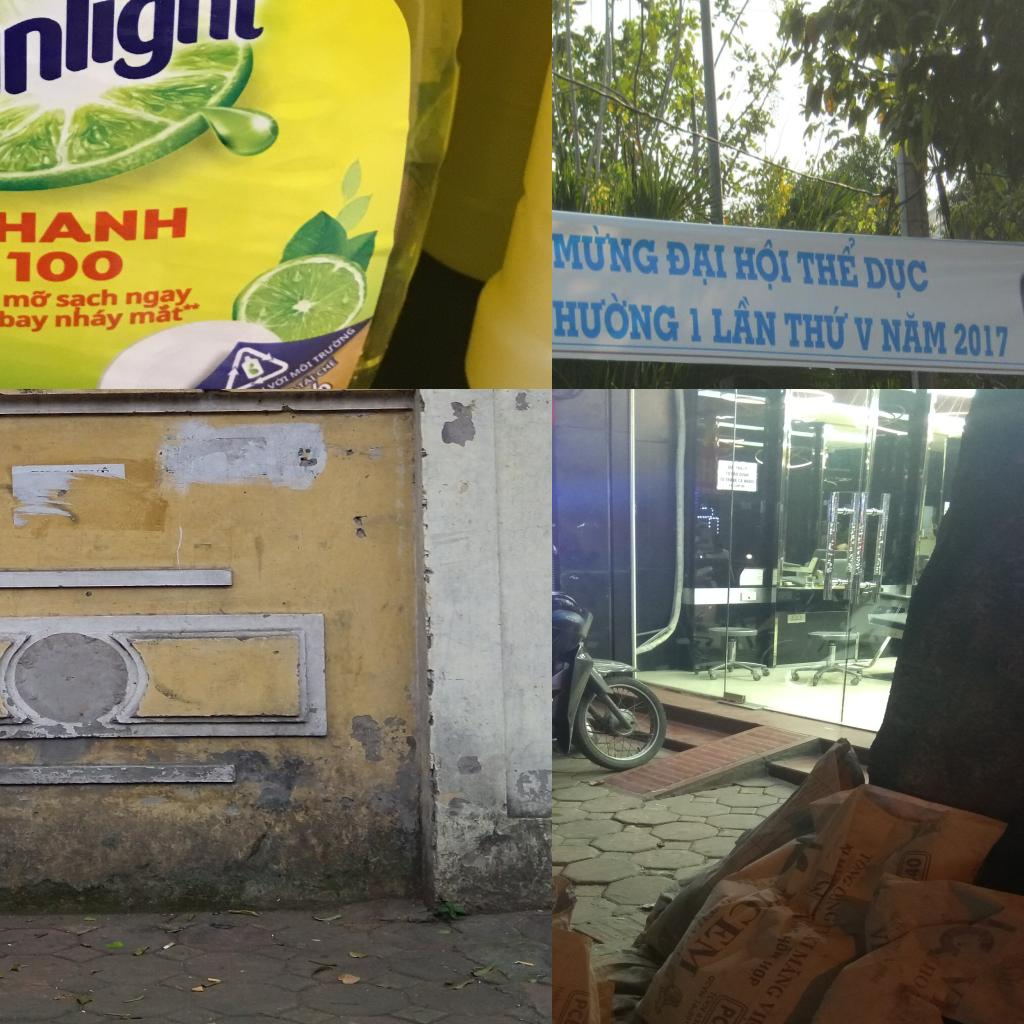text: (0, 0, 278, 170), (672, 894, 768, 980), (0, 203, 191, 245), (552, 287, 682, 346), (552, 217, 661, 279), (3, 248, 129, 284), (730, 234, 797, 296), (708, 292, 780, 349), (792, 236, 862, 293), (862, 251, 934, 301), (784, 300, 850, 354), (662, 238, 731, 289), (878, 312, 948, 358), (760, 947, 816, 1003), (924, 972, 984, 1020), (952, 318, 1010, 362), (838, 848, 882, 894), (310, 325, 360, 365), (52, 307, 126, 333), (54, 286, 124, 313), (122, 284, 196, 308), (126, 302, 188, 328), (814, 882, 850, 924), (732, 997, 782, 1024), (0, 308, 51, 334), (739, 957, 778, 990), (2, 288, 54, 310), (908, 961, 942, 993), (692, 1002, 741, 1024), (764, 933, 801, 962), (553, 996, 590, 1024), (867, 956, 899, 986), (685, 302, 706, 347), (852, 313, 875, 353), (286, 358, 316, 381), (313, 354, 341, 378), (795, 931, 821, 953), (697, 973, 718, 1000), (683, 998, 703, 1024), (867, 922, 892, 941), (295, 371, 321, 389), (903, 856, 923, 879), (264, 373, 291, 389), (810, 923, 837, 939), (698, 994, 716, 1014), (837, 841, 857, 857), (228, 383, 270, 389), (687, 1011, 706, 1024), (182, 302, 200, 312), (743, 478, 755, 484), (739, 472, 750, 477), (738, 478, 744, 484), (725, 471, 732, 476), (733, 472, 739, 477), (720, 477, 726, 482), (552, 982, 555, 990), (726, 478, 731, 482), (735, 478, 738, 483)
